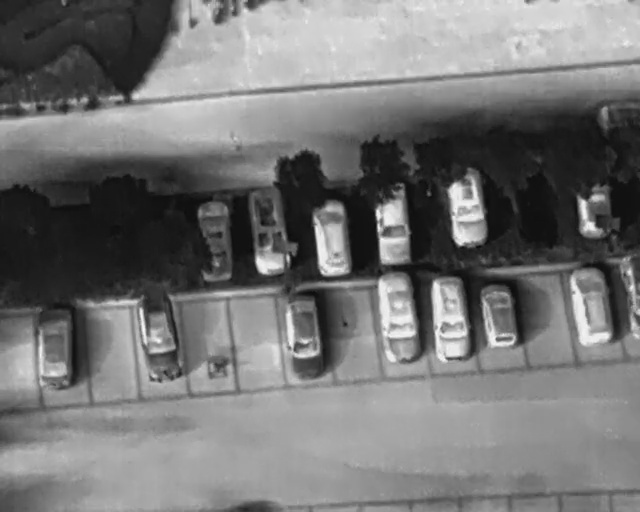Car: (370, 268, 426, 367), (133, 293, 185, 385), (564, 262, 616, 347), (247, 186, 293, 277), (427, 273, 474, 362), (441, 170, 490, 249), (308, 198, 355, 280), (282, 293, 325, 382), (35, 305, 73, 390), (374, 184, 413, 266), (476, 281, 520, 351), (197, 201, 232, 283), (577, 187, 611, 237)
